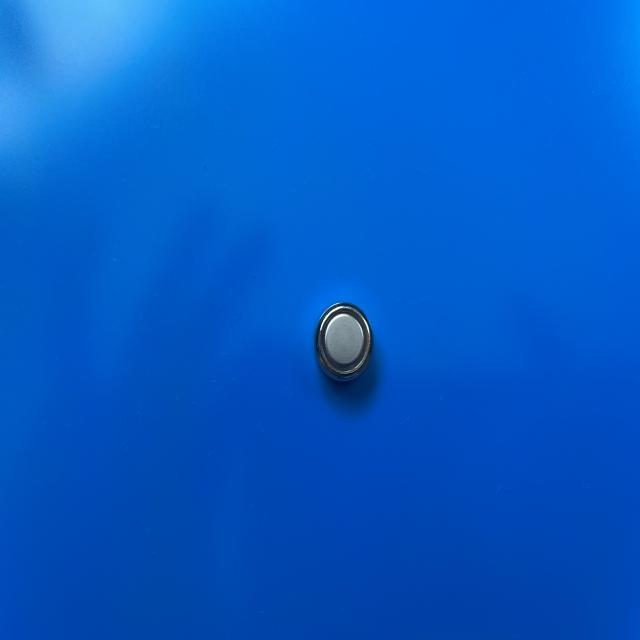COIN: (312, 300, 374, 384)
